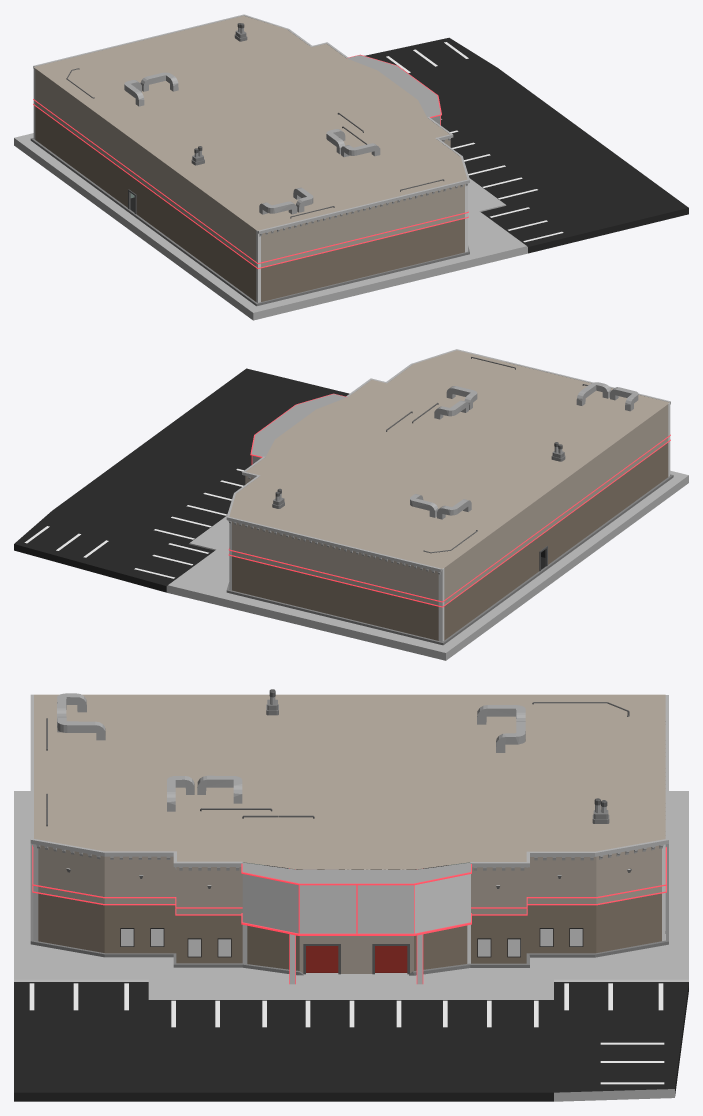
The model's file is map2.glb.
The picture shows the model from 3 angles, top to bottom: view 1: azimuth 30°, elevation 25°; view 2: azimuth 150°, elevation 25°; view 3: azimuth 270°, elevation 25°; orthographic projection. The views are drawn at different scales.
Parts seen in each view (by area): view 1: Theatre Roof, Cube.027, Cube.025, 2Story_2_Mat.002, 2Story_2_Mat.000, Cube.058, Cube.341; view 2: Theatre Roof, Cube.027, Cube.025, 2Story_2_Mat.002, 2Story_2_Mat.000, Cube.058, Cube.341; view 3: Theatre Roof, Cube.027, Cube.025, Cube.058, 2Story_2_Mat.002, 2Story_2_Mat.000, Cube.279, Cube.341, Roads.048, Cube.321.
Part boxes in pixels (<box>): Theatre Roof: <box>34,16,467,230</box>; Cube.027: <box>14,37,688,320</box>; Cube.025: <box>33,67,467,302</box>; 2Story_2_Mat.002: <box>33,14,469,236</box>; 2Story_2_Mat.000: <box>30,138,469,306</box>; Cube.058: <box>347,54,441,125</box>; Cube.341: <box>33,99,468,268</box>; Theatre Roof: <box>229,350,669,568</box>; Cube.027: <box>14,368,688,660</box>; Cube.025: <box>229,403,670,641</box>; 2Story_2_Mat.002: <box>226,349,670,574</box>; 2Story_2_Mat.000: <box>226,474,673,645</box>; Cube.058: <box>250,393,347,464</box>; Cube.341: <box>228,434,670,607</box>; Theatre Roof: <box>34,689,665,869</box>; Cube.027: <box>14,791,688,1101</box>; Cube.025: <box>33,844,665,973</box>; Cube.058: <box>241,862,471,935</box>; 2Story_2_Mat.002: <box>30,694,668,870</box>; 2Story_2_Mat.000: <box>30,844,668,975</box>; Cube.279: <box>264,865,448,972</box>; Cube.341: <box>32,845,666,915</box>; Roads.048: <box>171,1000,538,1027</box>; Cube.321: <box>289,934,423,984</box>.
Bounding box in the file's own units: 5705 × 1218 × 5426.
